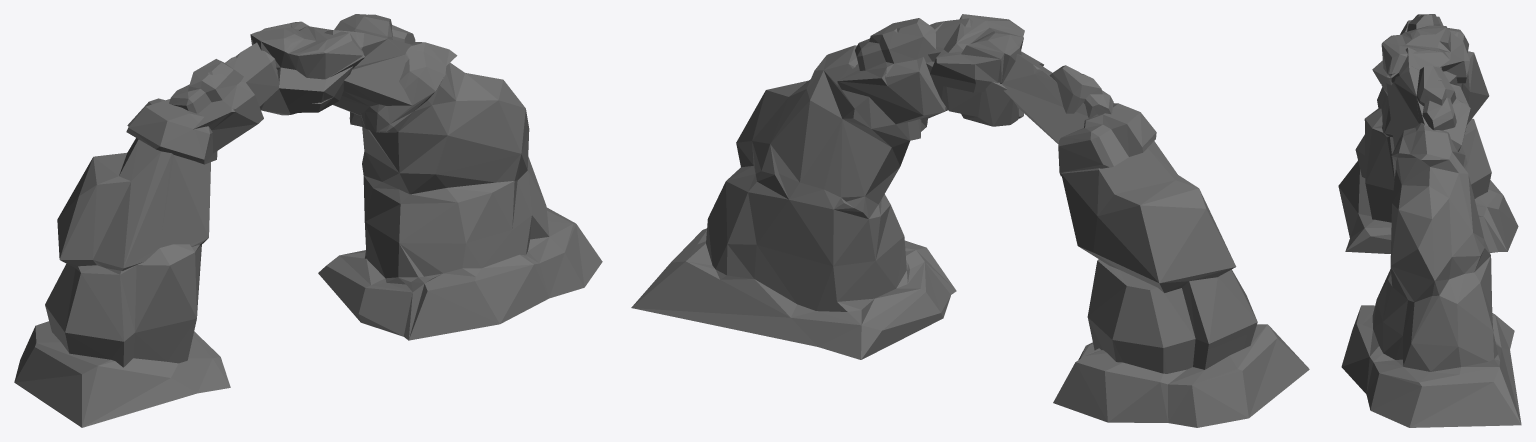
The model's file is rock__rockform_arch_medium.glb.
3 renders of one model, left to right at view 1: azimuth 30°, elevation 25°; view 2: azimuth 150°, elevation 25°; view 3: azimuth 270°, elevation 25°, orthographic. The views are drawn at different scales.
Parts seen in each view (by area): view 1: rockform.arch.medium; view 2: rockform.arch.medium; view 3: rockform.arch.medium.
Part boxes in pixels (bbox=[...]): rockform.arch.medium: bbox=[14, 14, 602, 427]; rockform.arch.medium: bbox=[631, 14, 1309, 427]; rockform.arch.medium: bbox=[1338, 14, 1521, 427].
Size of the model in its own units: 36.79 by 18.56 by 11.68.
1 material, 1 textured.
